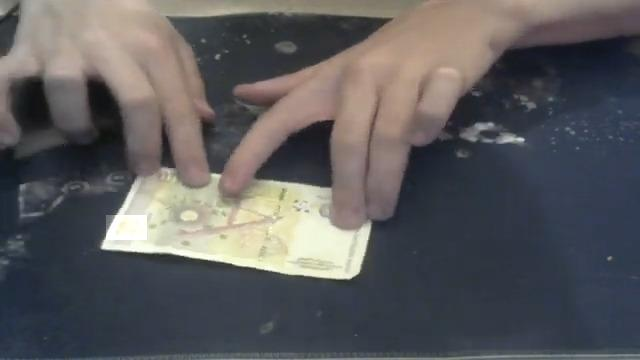10leva: (107, 215, 147, 240)
